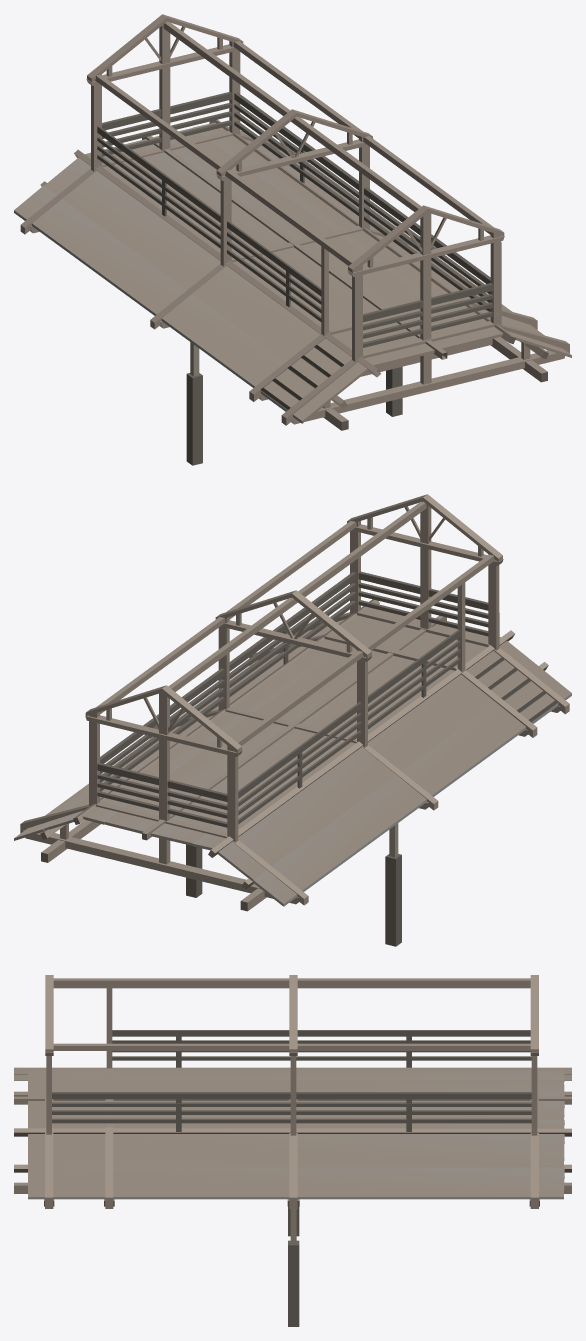
The picture shows the model from 3 angles, top to bottom: view 1: azimuth 30°, elevation 25°; view 2: azimuth 150°, elevation 25°; view 3: azimuth 270°, elevation 25°; orthographic projection. The views are drawn at different scales.
Visible parts, largest first — view 1: G:\FFXIV-MapTools\exports\s1f3\bg\ffxiv\sea_s1\fld\s1f3\bgpa (×2); view 2: G:\FFXIV-MapTools\exports\s1f3\bg\ffxiv\sea_s1\fld\s1f3\bgpa (×2); view 3: G:\FFXIV-MapTools\exports\s1f3\bg\ffxiv\sea_s1\fld\s1f3\bgpa (×3).
Part boxes in pixels (left/top/right/bottom): G:\FFXIV-MapTools\exports\s1f3\bg\ffxiv\sea_s1\fld\s1f3\bgpa (×2): left=14, top=14, right=571, bottom=465; G:\FFXIV-MapTools\exports\s1f3\bg\ffxiv\sea_s1\fld\s1f3\bgpa (×2): left=14, top=494, right=571, bottom=946; G:\FFXIV-MapTools\exports\s1f3\bg\ffxiv\sea_s1\fld\s1f3\bgpa (×3): left=14, top=975, right=571, bottom=1326.
Size of the model in its own units: 9.81 by 10.81 by 17.98.
